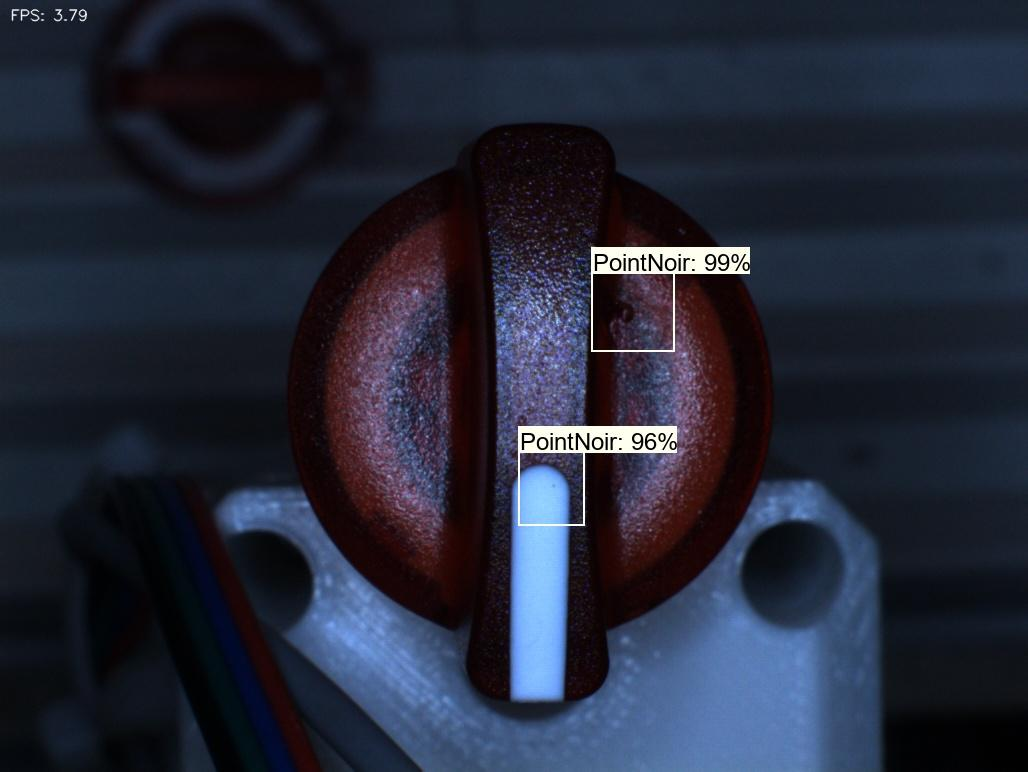Choc: (598, 275, 669, 352)
